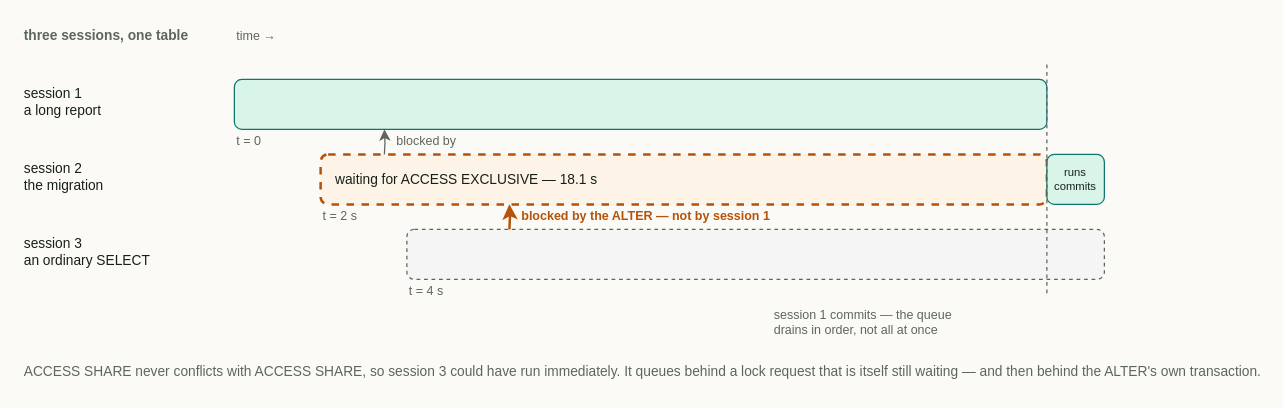
The diagram is 1283 pixels wide and 408 high, and some of its shapes have lost their labels. The box of each missing label's shape, as (x1, y1, x2, y2) in pixels:
holds ACCESS SHARE — granted, for the whole transaction: (233, 78, 1047, 129)
waiting — 16.0 s: (406, 228, 1104, 279)
